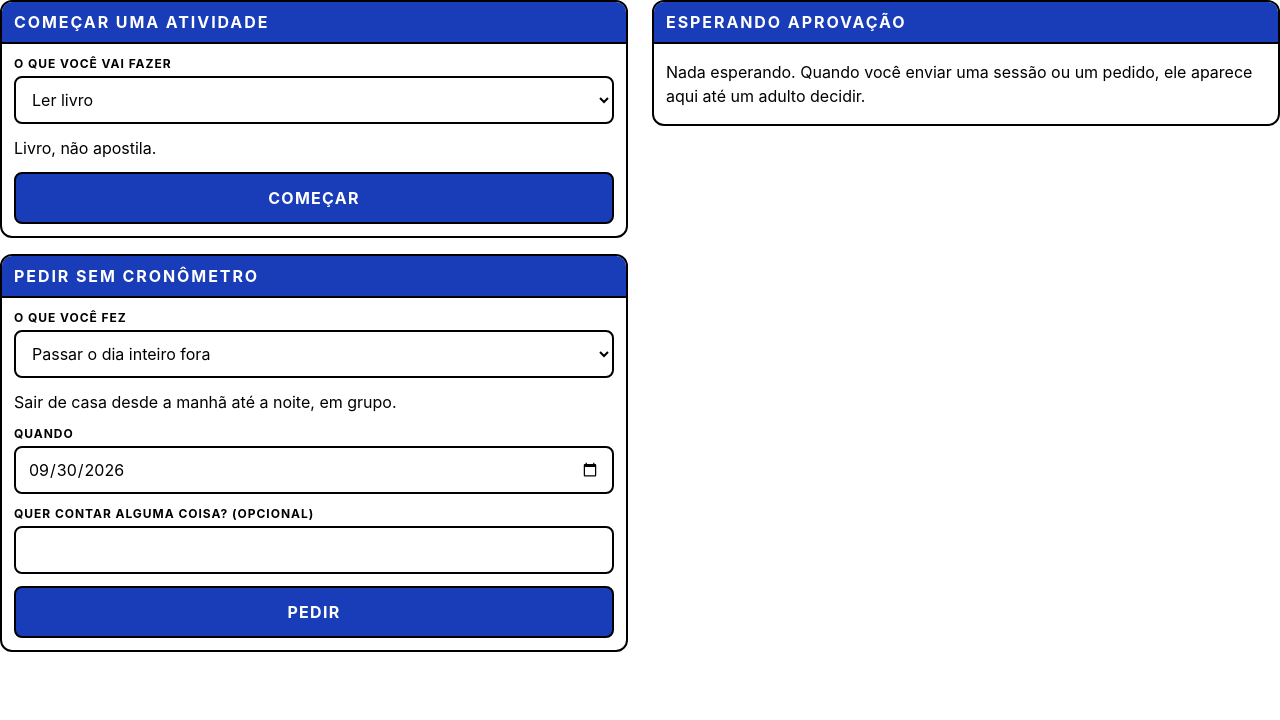
Test: the stopwatch picker (#40) › shows nothing, not an empty box, for one without a description
Step 1. Select "Ler quadrinhos ou HQ" in the dropdown labelled "O que você vai fazer" → (314, 100), box [14,76,614,124]
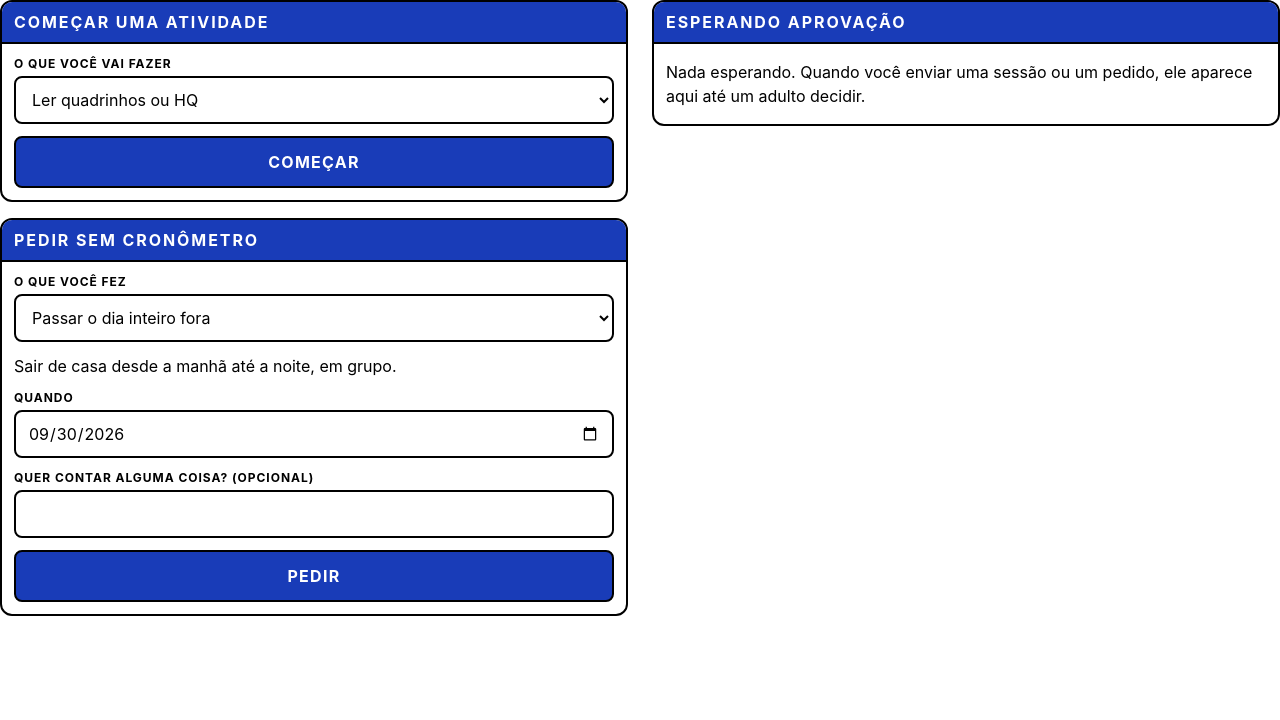
Expected: the text "Livro, não apostila." is gone
